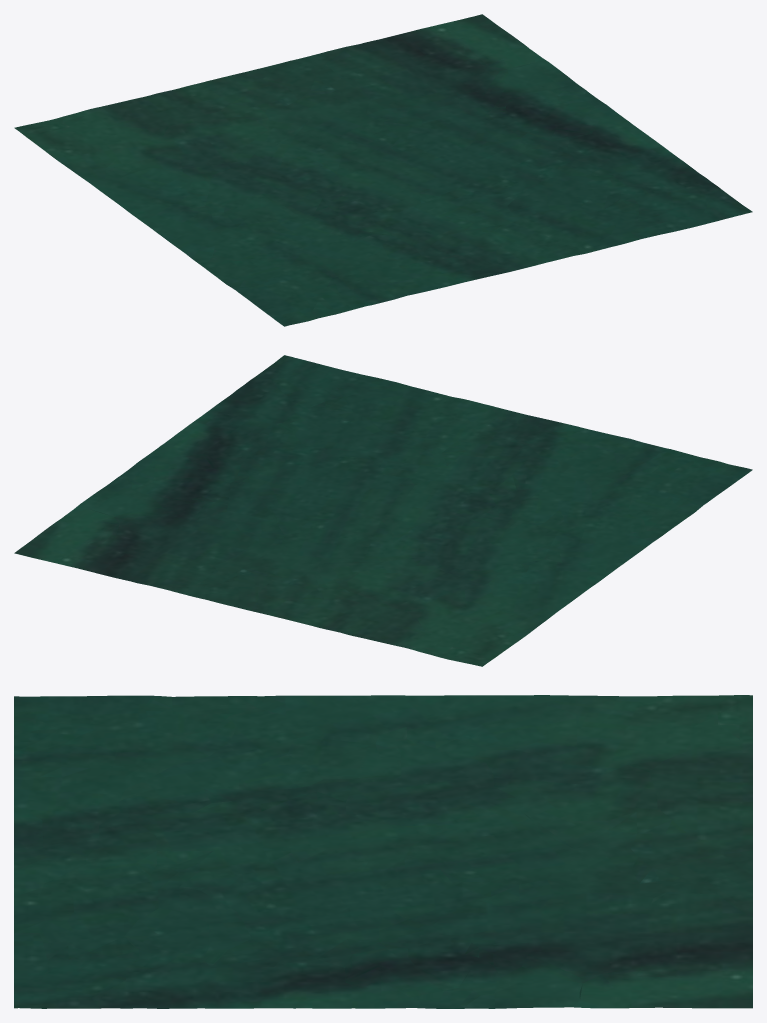
3 renders of one model, top to bottom at view 1: azimuth 30°, elevation 25°; view 2: azimuth 150°, elevation 25°; view 3: azimuth 270°, elevation 25°, orthographic. The views are drawn at different scales.
Bounding box in the file's own units: 104 × 0.4625 × 104.
3 materials, 3 textured.
